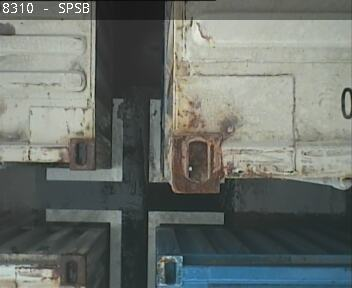groundmarker_1: (48, 208, 223, 288), (48, 99, 164, 183)
